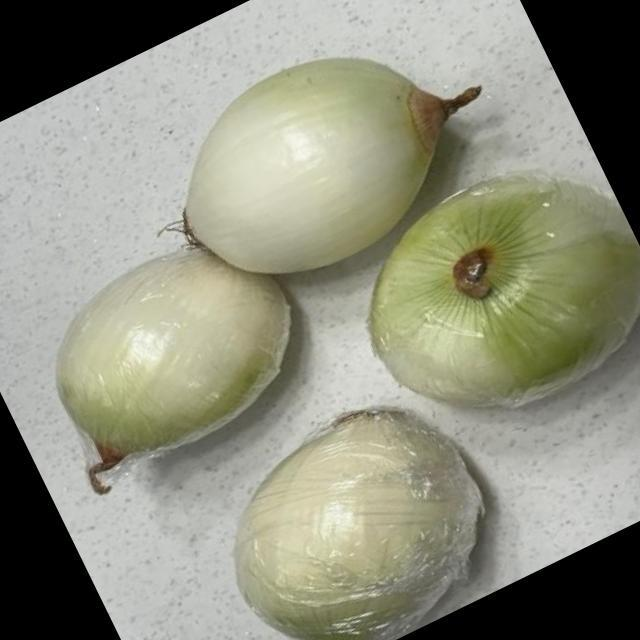Onion: (366, 172, 640, 412), (234, 408, 478, 640), (61, 247, 290, 488), (188, 59, 441, 275)
